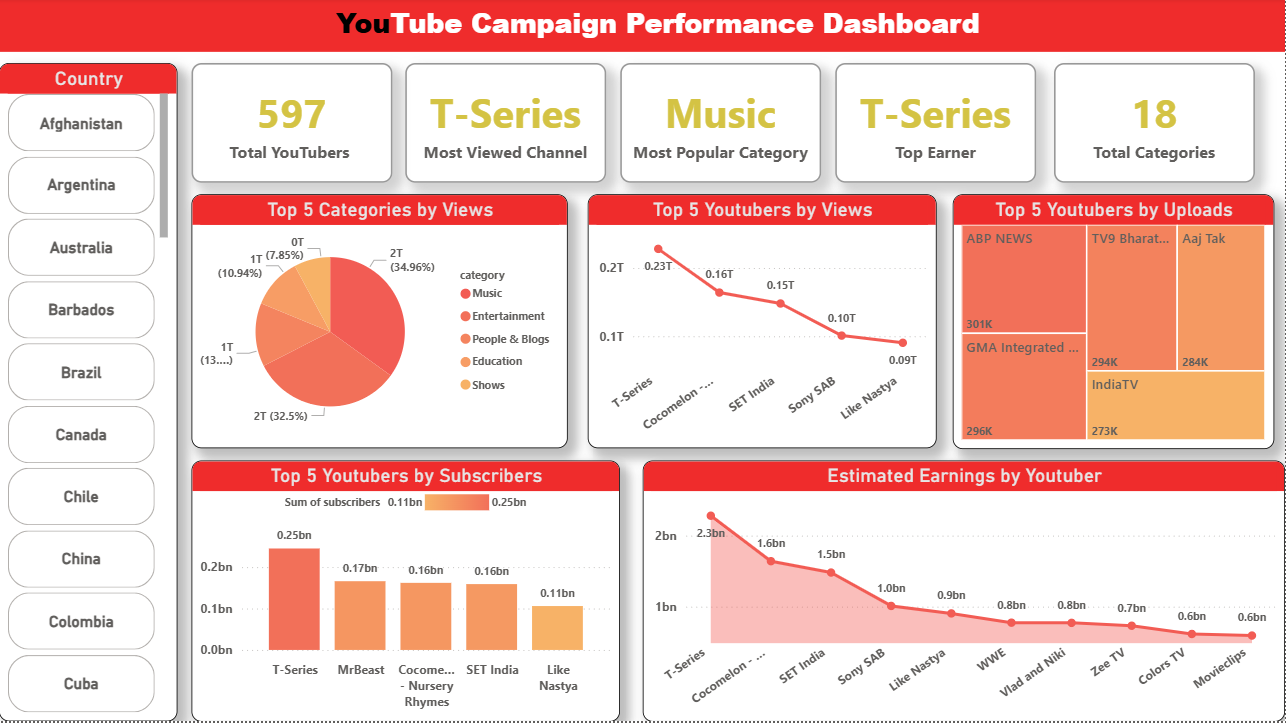

This screenshot's page, from the dashboard's own definition file:
{"tool":"powerbi","page":{"name":"Page 1","canvas":[1280,720],"ordinal":0},"visuals":[{"type":"textbox","box":[0,0,1280,53.5],"z":0},{"type":"advancedSlicerVisual","fields":{"Values":["Global YouTube Statistics.Country"]},"box":[0,64.7,177.9,655.6],"z":1000},{"type":"card","fields":{"Values":["Global YouTube Statistics.Youtuber_Count"]},"box":[191.6,64.7,200.3,119.4],"z":2000},{"type":"card","fields":{"Values":["Global YouTube Statistics.Most_viewed_yt"]},"box":[404.3,64.7,200.3,119.4],"z":3000},{"type":"card","fields":{"Values":["Global YouTube Statistics.Most_popular_cat"]},"box":[618.2,64.7,200.3,119.4],"z":4000},{"type":"card","fields":{"Values":["Global YouTube Statistics.TopEarner"]},"box":[832.2,64.7,200.3,119.4],"z":5000},{"type":"card","fields":{"Values":["Global YouTube Statistics.Category_count"]},"box":[1049.9,64.7,200.3,119.4],"z":6000},{"type":"pieChart","title":"Top 5 Categories by Views","fields":{"Y":["Global YouTube Statistics.Total_views"],"Category":["Global YouTube Statistics.category"]},"box":[191.6,195.3,374.4,252.5],"z":7000},{"type":"lineChart","title":"Top 5 Youtubers by Views","fields":{"Category":["Global YouTube Statistics.Youtuber"],"Y":["Global YouTube Statistics.video views"]},"box":[585.9,195.3,347.1,252.5],"z":8000},{"type":"treemap","title":"Top 5 Youtubers by Uploads","fields":{"Group":["Global YouTube Statistics.Youtuber"],"Values":["Global YouTube Statistics.uploads"]},"box":[949.1,195.3,319.7,253.8],"z":8001},{"type":"columnChart","title":"Top 5 Youtubers by Subscribers","fields":{"Category":["Global YouTube Statistics.Youtuber"],"Y":["Global YouTube Statistics.subscribers"]},"box":[191.6,460.3,426.7,260],"z":8002},{"type":"areaChart","title":"Estimated Earnings by Youtuber","fields":{"Category":["Global YouTube Statistics.Youtuber"],"Y":["Global YouTube Statistics.Estimated_earning"]},"box":[640.6,460.3,639.4,260],"z":8003}]}

Visuals, with their boxes in screenshot pixels (x1, y1, x2, y2), scaled from the page's 1280x720 canvas onto the 1286x723 screenshot:
textbox: BBox(0, 0, 1285, 54)
advancedSlicerVisual - Global YouTube Statistics.Country: BBox(0, 65, 179, 722)
card - Global YouTube Statistics.Youtuber_Count: BBox(192, 65, 394, 185)
card - Global YouTube Statistics.Most_viewed_yt: BBox(406, 65, 607, 185)
card - Global YouTube Statistics.Most_popular_cat: BBox(621, 65, 822, 185)
card - Global YouTube Statistics.TopEarner: BBox(836, 65, 1037, 185)
card - Global YouTube Statistics.Category_count: BBox(1055, 65, 1256, 185)
"Top 5 Categories by Views" pieChart: BBox(192, 196, 569, 450)
"Top 5 Youtubers by Views" lineChart: BBox(589, 196, 937, 450)
"Top 5 Youtubers by Uploads" treemap: BBox(954, 196, 1275, 451)
"Top 5 Youtubers by Subscribers" columnChart: BBox(192, 462, 621, 722)
"Estimated Earnings by Youtuber" areaChart: BBox(644, 462, 1285, 722)
